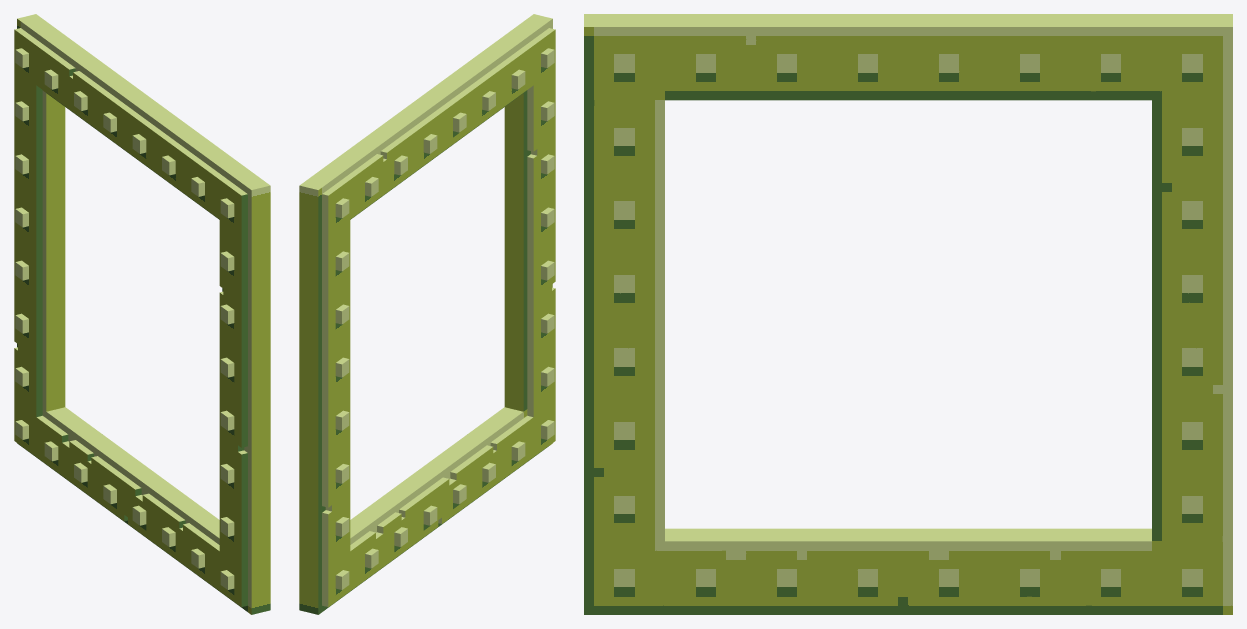
Rendered from sewer_core_frameao.fezao.glb.
The picture shows the model from 3 angles, left to right: view 1: azimuth 30°, elevation 25°; view 2: azimuth 150°, elevation 25°; view 3: azimuth 270°, elevation 25°; orthographic projection. The views are drawn at different scales.
Parts seen in each view (by area): view 1: SEWER_CORE_FRAMEAO; view 2: SEWER_CORE_FRAMEAO; view 3: SEWER_CORE_FRAMEAO.
Part boxes in pixels (left/top/right/bottom): SEWER_CORE_FRAMEAO: left=14, top=14, right=270, bottom=614; SEWER_CORE_FRAMEAO: left=299, top=14, right=555, bottom=614; SEWER_CORE_FRAMEAO: left=584, top=14, right=1232, bottom=614.
Bounding box in the file's own units: 0.3125 × 4 × 4.
Materials: 1 (1 with a texture image).
